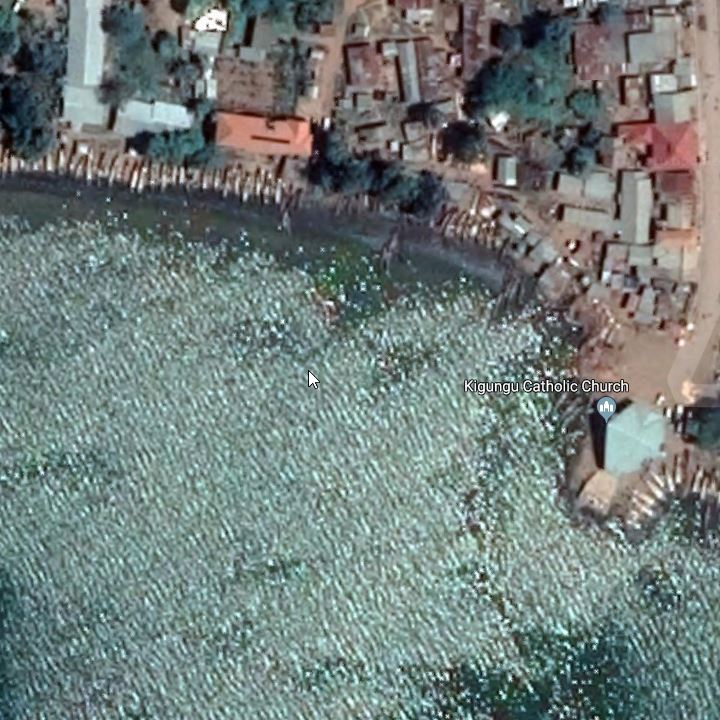boat: (626, 483, 661, 511), (642, 475, 670, 506), (632, 499, 661, 524), (277, 211, 295, 246), (647, 460, 665, 493), (285, 186, 304, 216), (673, 450, 685, 494), (698, 474, 711, 513), (664, 464, 678, 500), (261, 168, 273, 209), (65, 149, 79, 182), (56, 142, 68, 179), (692, 463, 704, 500), (140, 158, 150, 201), (439, 203, 453, 233), (252, 165, 262, 206), (109, 151, 120, 188), (131, 160, 142, 196), (1, 142, 11, 180), (84, 152, 95, 186), (167, 162, 179, 193), (41, 151, 54, 179), (242, 170, 251, 210), (201, 163, 212, 195), (486, 220, 496, 255), (120, 154, 130, 188), (445, 207, 455, 240), (223, 166, 232, 202), (74, 153, 85, 182), (231, 167, 240, 202), (274, 176, 283, 211), (333, 189, 343, 220), (456, 209, 466, 240), (98, 152, 107, 186), (476, 221, 486, 251), (212, 165, 221, 196), (177, 163, 188, 188), (345, 192, 353, 221), (356, 189, 363, 220)
